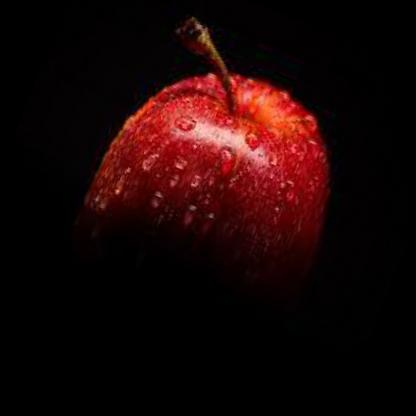apple: (39, 1, 389, 398)
